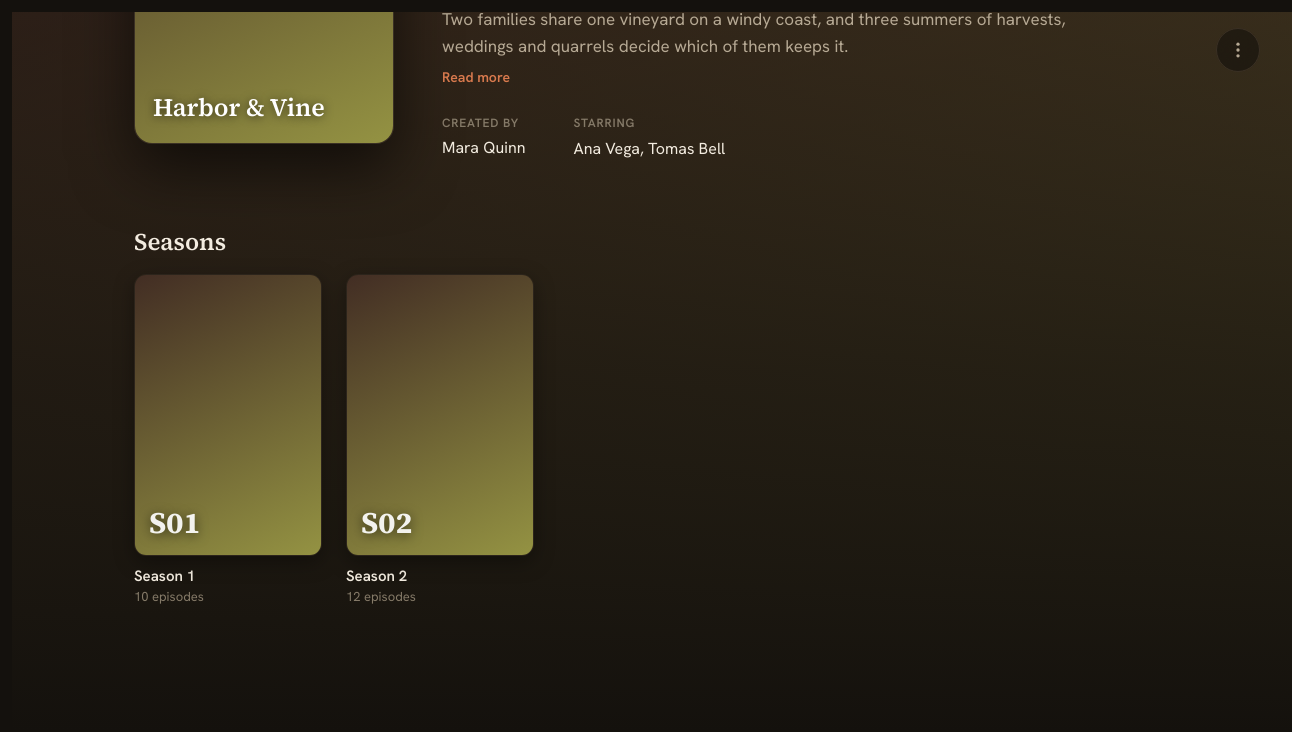
SeriesDetail — the Seasons grid › opens the season page when a card is pressed
(page scrolled)
Click the button "S02 Season 2 12 episodes". click: (440, 440)
box: 346,274 -> 534,605
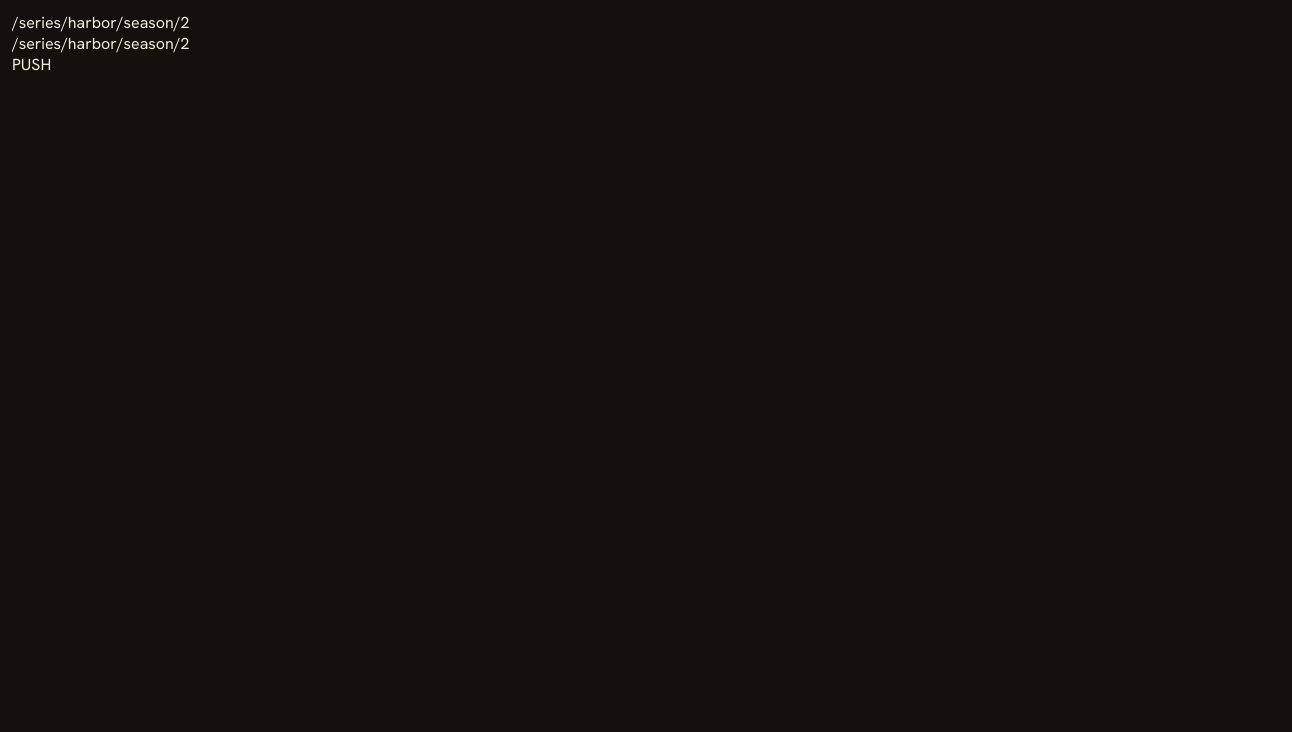
Expected: the text with test id "pathname" reads "/series/harbor/season/2", 12,12 -> 190,33
